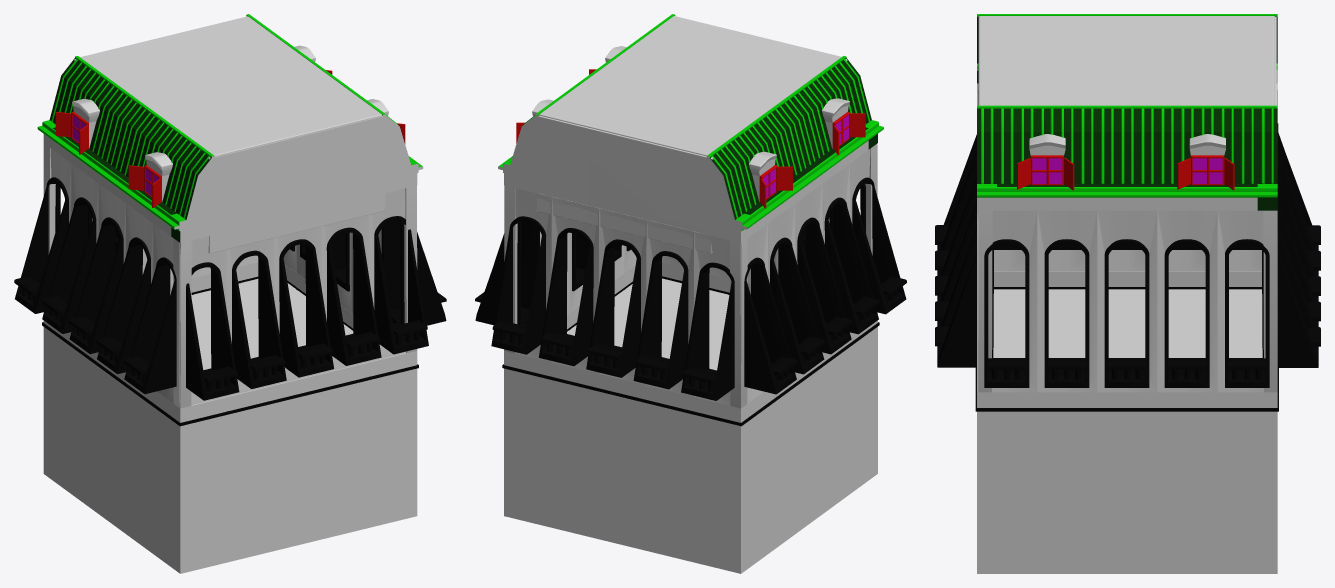
File: Building_3_Musante_Michael.fbx
3 renders of one model, left to right at view 1: azimuth 30°, elevation 25°; view 2: azimuth 150°, elevation 25°; view 3: azimuth 270°, elevation 25°, orthographic. The views are drawn at different scales.
Visible parts, largest first — view 1: Building_3_Musante_Michael1; view 2: Building_3_Musante_Michael1; view 3: Building_3_Musante_Michael1.
Part boxes in pixels (x1,y1,x2,y2): Building_3_Musante_Michael1: (14,14,446,573); Building_3_Musante_Michael1: (475,14,906,573); Building_3_Musante_Michael1: (935,14,1320,573).
Size of the model in its own units: 19.32 by 24.77 by 19.26.
